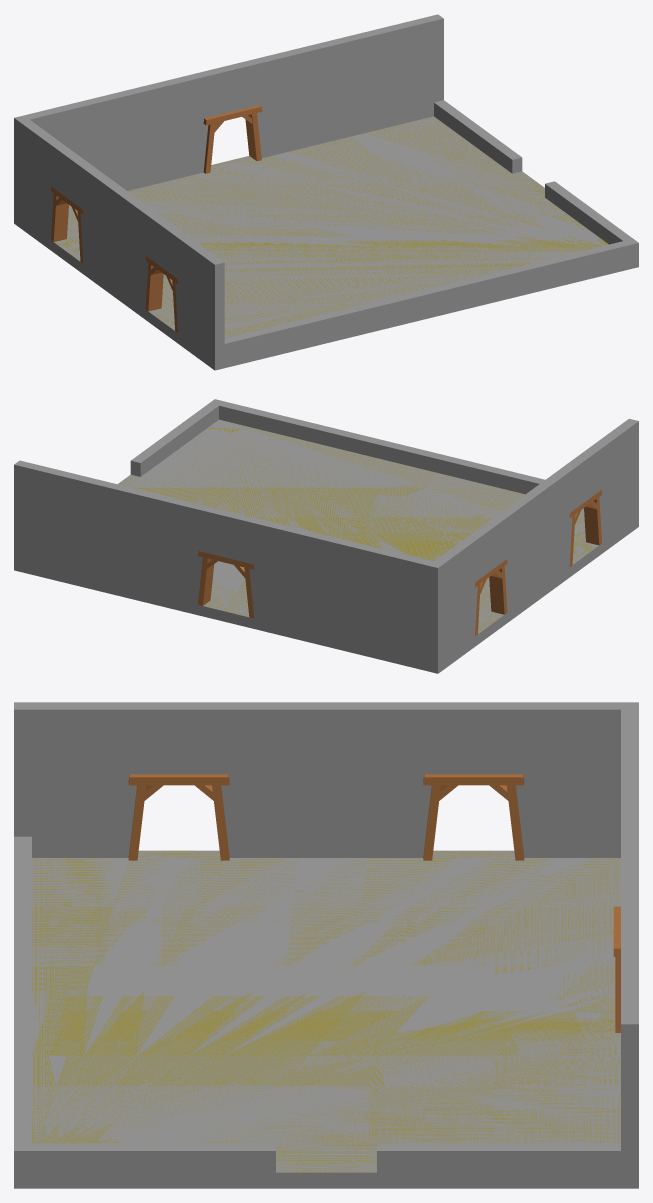
File: salaGrandeTresPuertas.fbx
3 views of the same model, one above another, from view 1: azimuth 30°, elevation 25°; view 2: azimuth 150°, elevation 25°; view 3: azimuth 270°, elevation 25° (orthographic). The views are drawn at different scales.
Visible parts, largest first — view 1: group_1, group_2, group_3, group_4, group_0; view 2: group_1, group_2, group_3, group_0, group_4; view 3: group_2, group_1, group_0, group_4, group_3.
Boxes of the visible parts, <box> form: group_1: <box>14,14,638,370</box>; group_2: <box>54,116,608,338</box>; group_3: <box>203,105,262,173</box>; group_4: <box>145,256,177,332</box>; group_0: <box>51,186,83,263</box>; group_1: <box>14,399,638,673</box>; group_2: <box>118,419,598,633</box>; group_3: <box>198,551,254,618</box>; group_0: <box>475,559,507,635</box>; group_4: <box>569,490,601,566</box>; group_2: <box>32,850,620,1172</box>; group_1: <box>14,702,638,1188</box>; group_0: <box>423,774,524,860</box>; group_4: <box>128,774,229,860</box>; group_3: <box>613,906,620,1032</box>.
Bounding box in the file's own units: 2560 × 610 × 2100.
